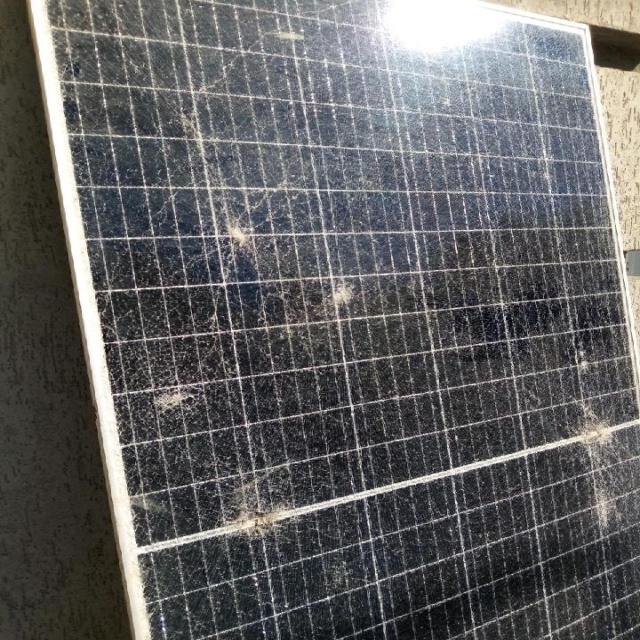faulty: (40, 15, 636, 640)
